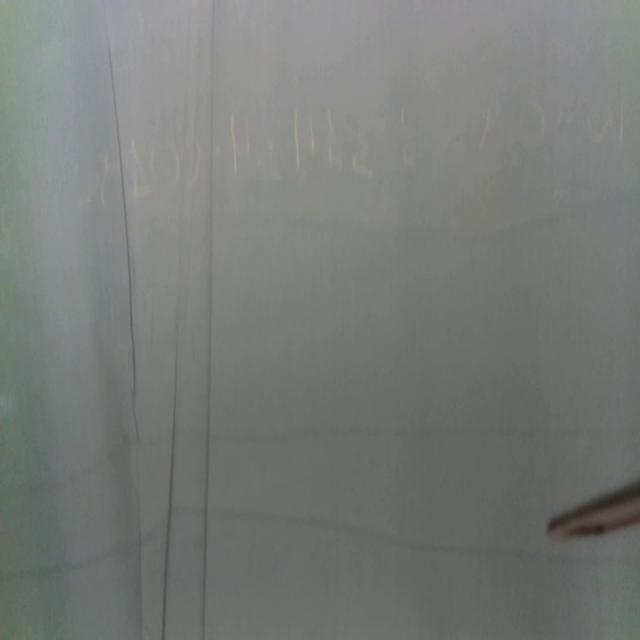color bleeding: (0, 416, 578, 504), (0, 499, 543, 591), (278, 179, 640, 255)
crease: (102, 20, 144, 640), (159, 0, 193, 639), (200, 0, 217, 640)
